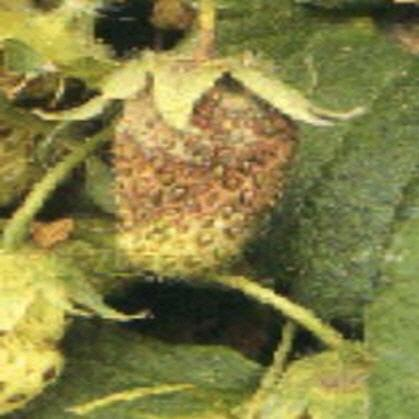Gray Mold: (111, 71, 302, 280)
